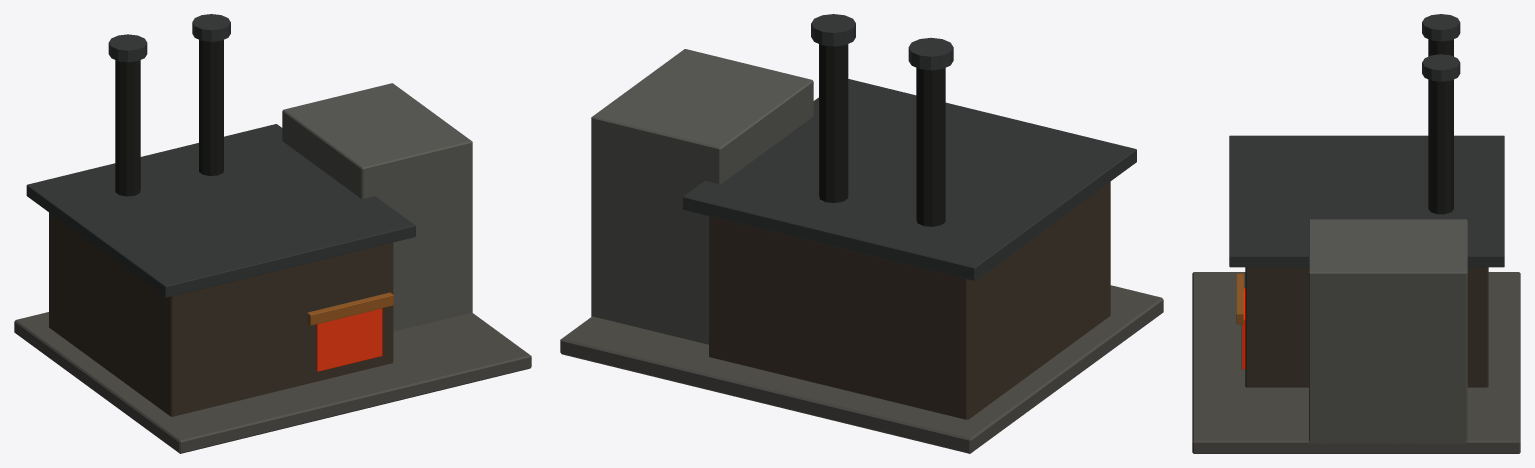
File: BrassSmelterHouseV2.glb
3 views of the same model, side by side, from view 1: azimuth 30°, elevation 25°; view 2: azimuth 150°, elevation 25°; view 3: azimuth 270°, elevation 25° (orthographic). The views are drawn at different scales.
Parts seen in each view (by area): view 1: BrassSmelterHouseV2; view 2: BrassSmelterHouseV2; view 3: BrassSmelterHouseV2.
Boxes of the visible parts, x1,y1,x2,y2 form: BrassSmelterHouseV2: (14,14,531,453); BrassSmelterHouseV2: (560,14,1163,453); BrassSmelterHouseV2: (1192,14,1520,453).
Bounding box in the file's own units: 38 × 31.1 × 31.
1 material, 1 textured.
